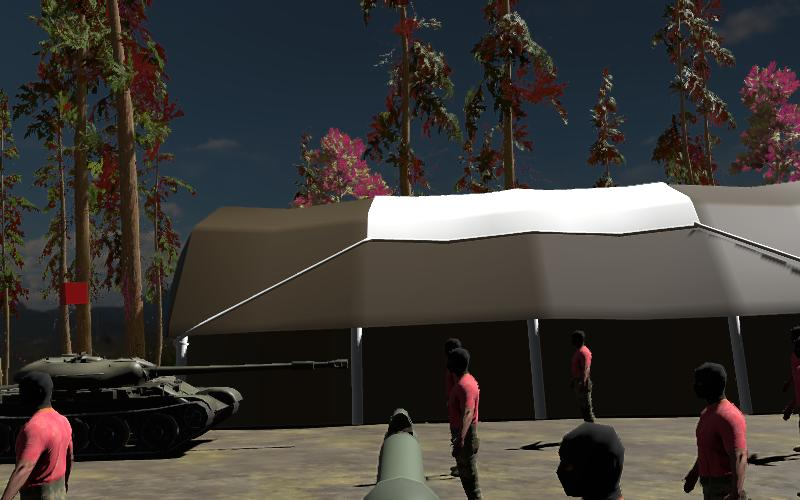Human: (681, 361, 752, 500), (2, 367, 75, 499), (442, 346, 490, 497), (567, 328, 600, 427), (567, 330, 599, 425), (779, 325, 800, 459)
Tank: (0, 351, 348, 460)
